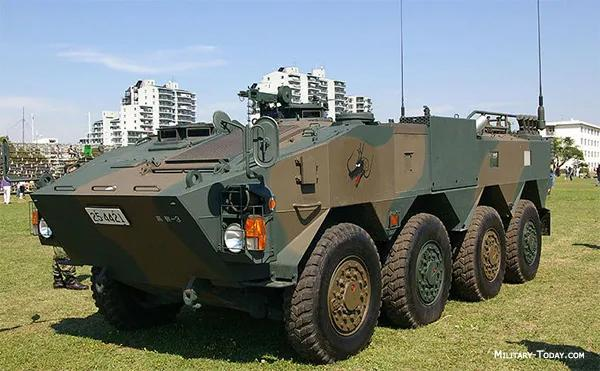MIL_IFV: (30, 91, 559, 362)
